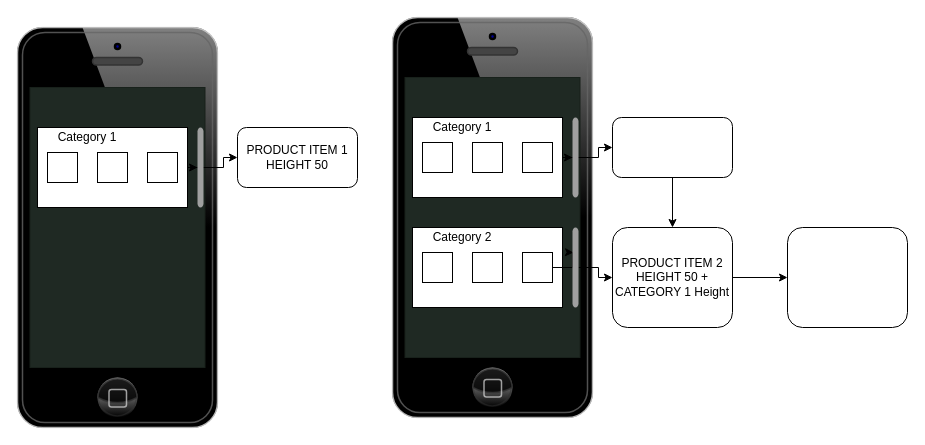
This 925x445 diagram has some shape labels left out. The shapes that lost their labels are listed below. From the top down, each one's centre as x and y in pixels, then its label:
At point 672,147: "PRODUCT ITEM 1 HEIGHT 50 Position(50)".
At point 847,277: "PRODUCT ITEM 2 HEIGHT 100 Position(100)".
